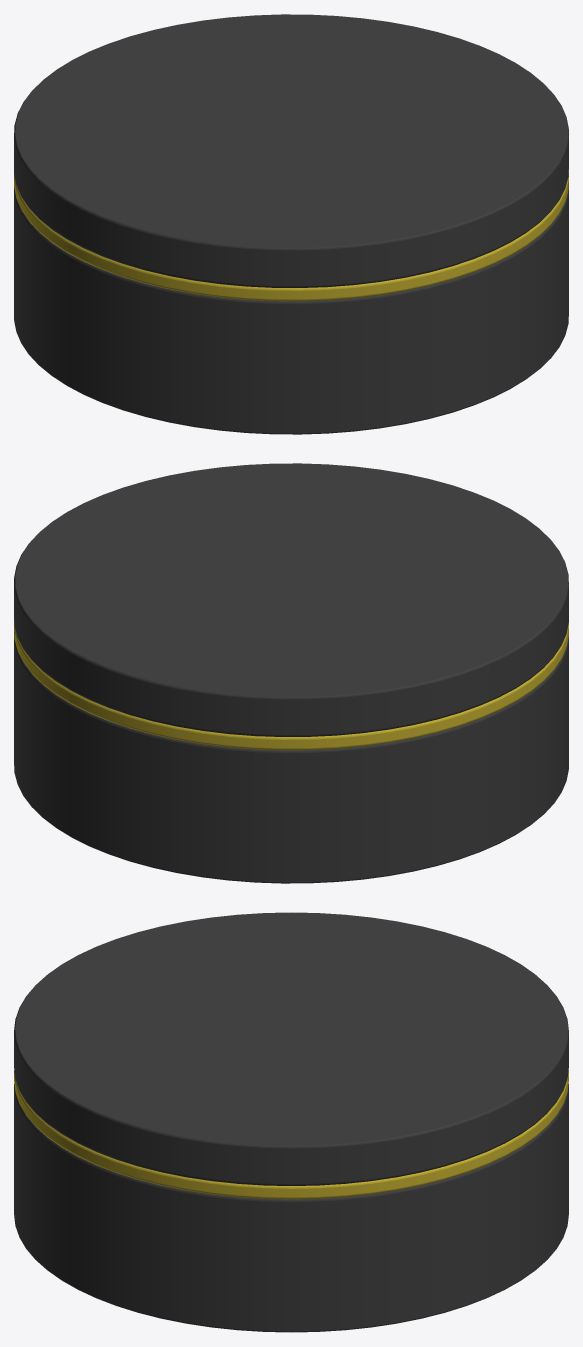
File: pedestal.glb
3 renders of one model, top to bottom at view 1: azimuth 30°, elevation 25°; view 2: azimuth 150°, elevation 25°; view 3: azimuth 270°, elevation 25°, orthographic.
Visible parts, largest first — view 1: Cylinder.001; view 2: Cylinder.001; view 3: Cylinder.001.
Boxes of the visible parts, x1=… form: Cylinder.001: x1=14, y1=14, x2=568, y2=434; Cylinder.001: x1=14, y1=463, x2=568, y2=883; Cylinder.001: x1=14, y1=912, x2=568, y2=1332.
Bounding box in the file's own units: 0.5 × 0.1855 × 0.5.
